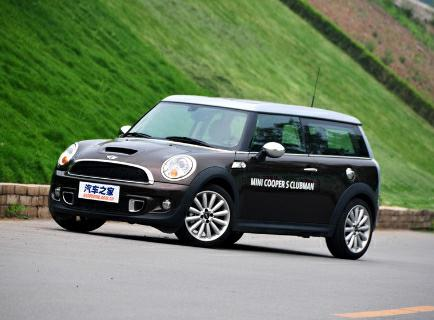MINI CLUBMAN: (52, 101, 373, 257)
